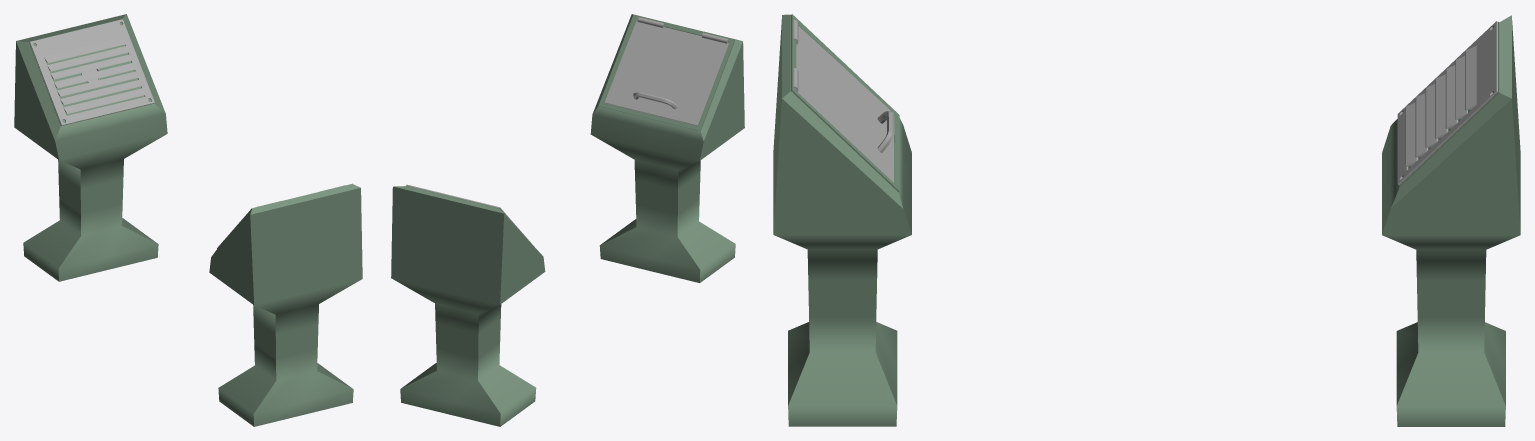
The model's file is Console_Sides.fbx.
The picture shows the model from 3 angles, left to right: view 1: azimuth 30°, elevation 25°; view 2: azimuth 150°, elevation 25°; view 3: azimuth 270°, elevation 25°; orthographic projection. The views are drawn at different scales.
Visible parts, largest first — view 1: pasted__pCube4, power_grid, panel; view 2: power_grid, pasted__pCube4, hatch1; view 3: pasted__pCube4, power_grid, panel, hatch1.
Boxes of the visible parts, <box> form: pasted__pCube4: <box>209,183,362,426</box>; power_grid: <box>14,14,167,281</box>; panel: <box>29,19,154,125</box>; power_grid: <box>391,185,545,426</box>; pasted__pCube4: <box>590,14,744,282</box>; hatch1: <box>604,17,728,126</box>; pasted__pCube4: <box>773,14,911,426</box>; power_grid: <box>1382,15,1520,426</box>; panel: <box>1397,21,1497,185</box>; hatch1: <box>793,19,894,182</box>.
Size of the model in its own units: 585 by 1084 by 2176.
